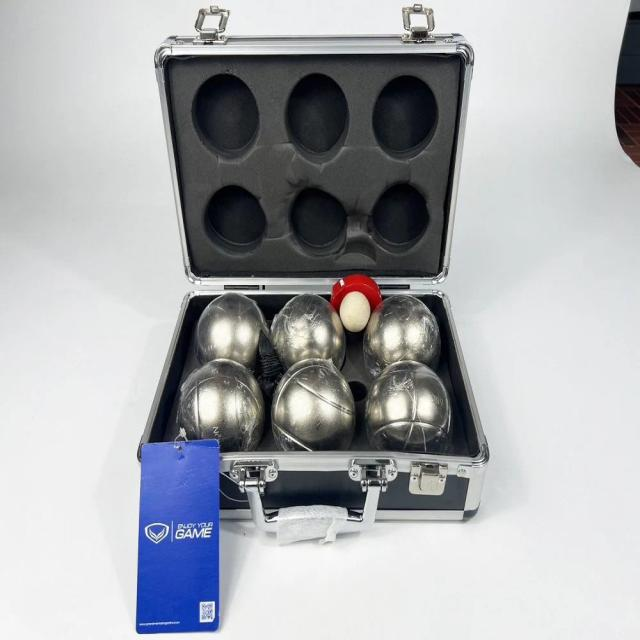hatball: (337, 290, 374, 332)
petanque: (262, 350, 361, 471), (360, 354, 458, 468), (170, 353, 266, 462), (356, 290, 453, 377), (189, 289, 273, 379), (268, 295, 351, 368)
